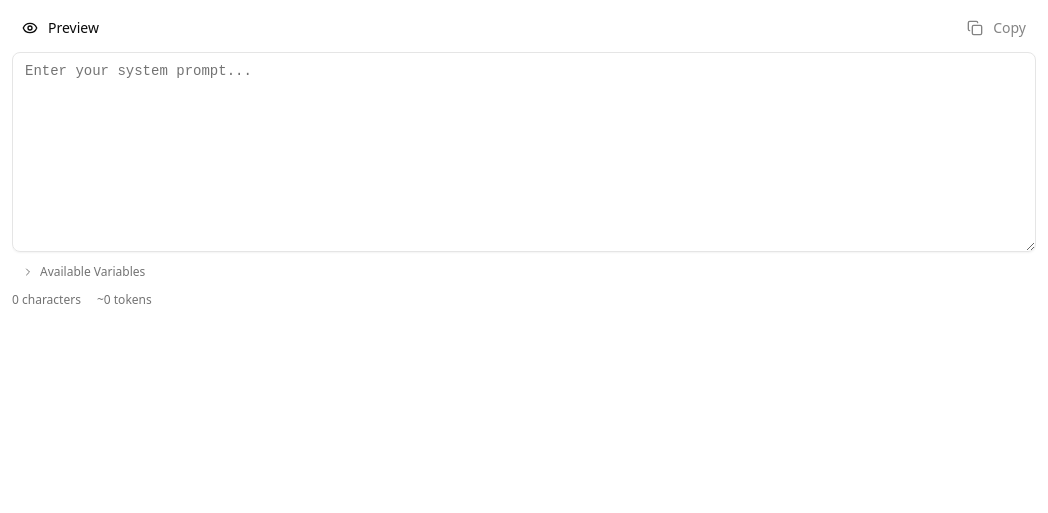
it: PromptEditor › disables snippet and variable insertion in preview mode
Click the button "Available Variables".
click(84, 272)  # box [12,264,155,280]
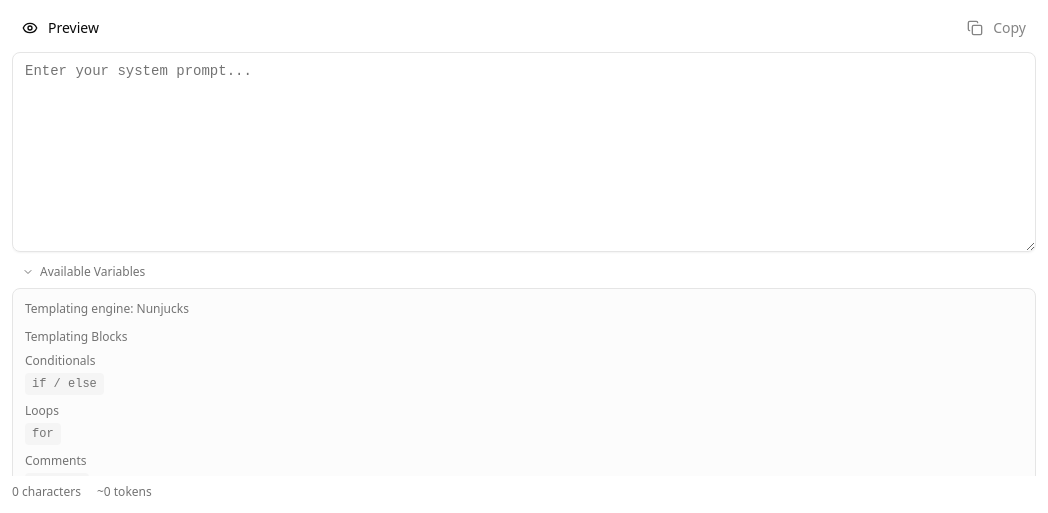
Click the button "Preview".
click(60, 28)  # box [12,12,109,44]
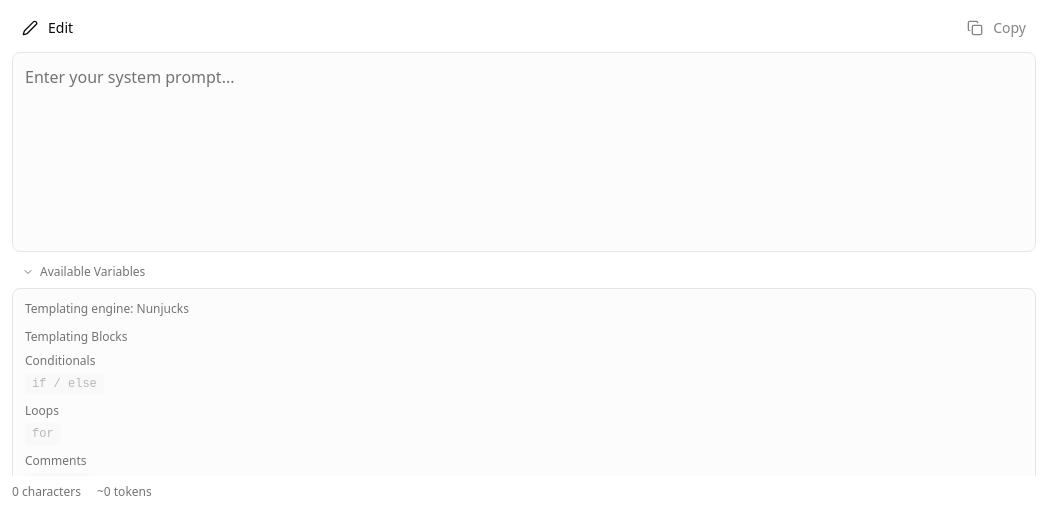
Expected: the button "if / else" is disabled, [25,373,104,395]
